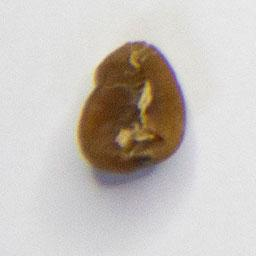defect: (67, 34, 193, 181)
